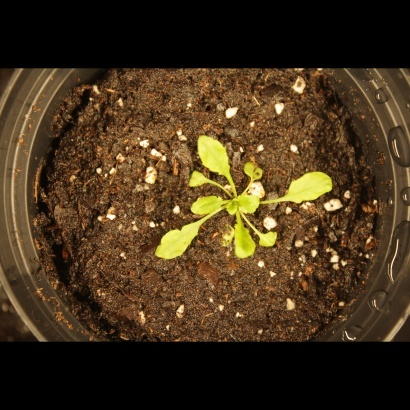leaf: (279, 167, 343, 208), (152, 220, 203, 265), (193, 130, 235, 176), (231, 220, 259, 259), (190, 191, 226, 217), (239, 156, 273, 183), (184, 164, 212, 196), (253, 227, 283, 251), (237, 191, 262, 216), (222, 194, 245, 217)
